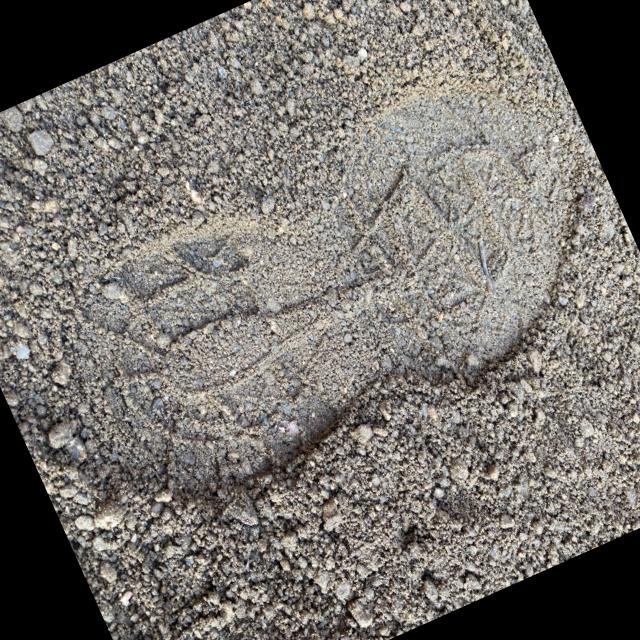human_footprint: (0, 1, 639, 640), (26, 46, 619, 503)
